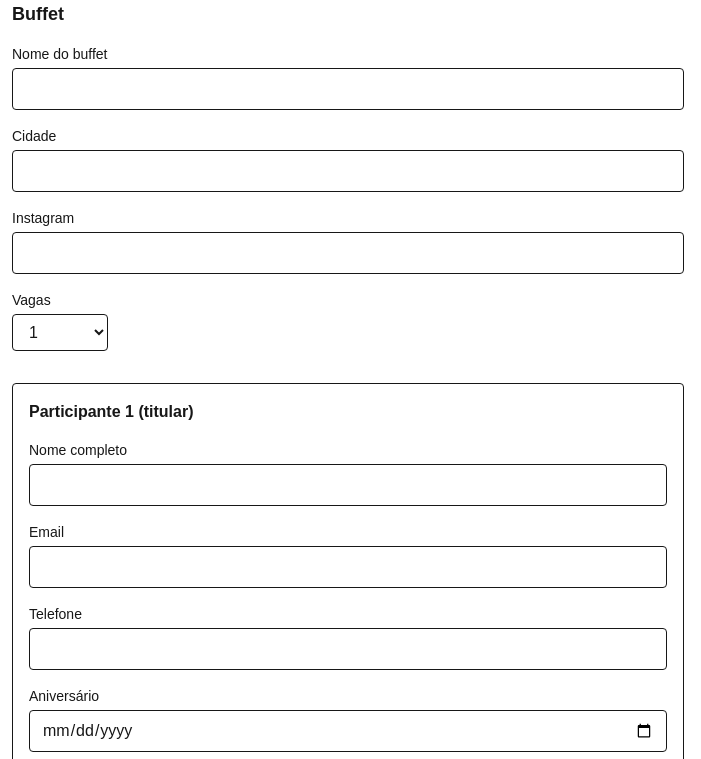
Test: FormularioInscricao › cria um bloco por vaga ao aumentar o numero
This screenshot has width=701, height=759.
Select "3" in the dropdown labelled "Vagas" at x=60, y=332, box [12,314,108,351]
(page scrolled)
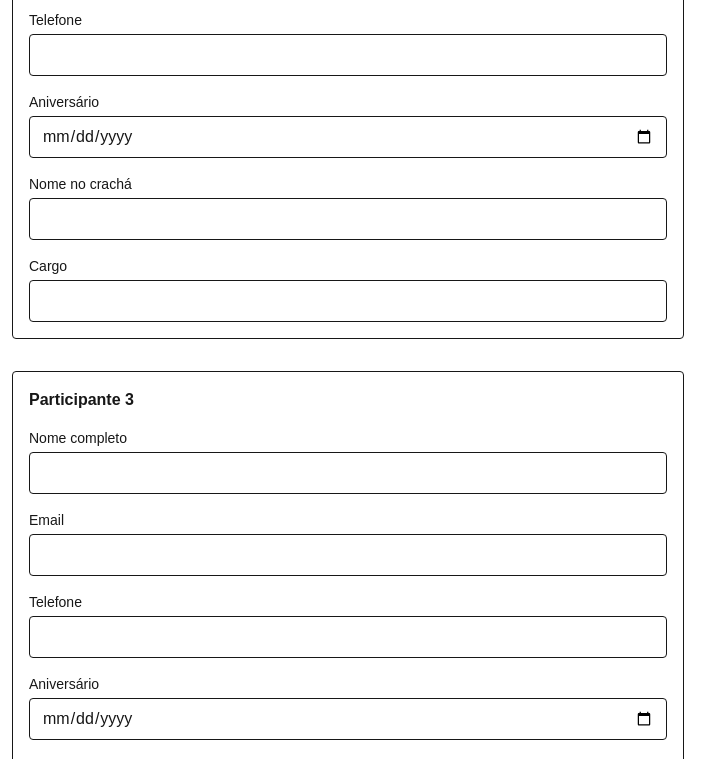
Check: the heading "Participante 3" is shown, box [29,391,134,408]
